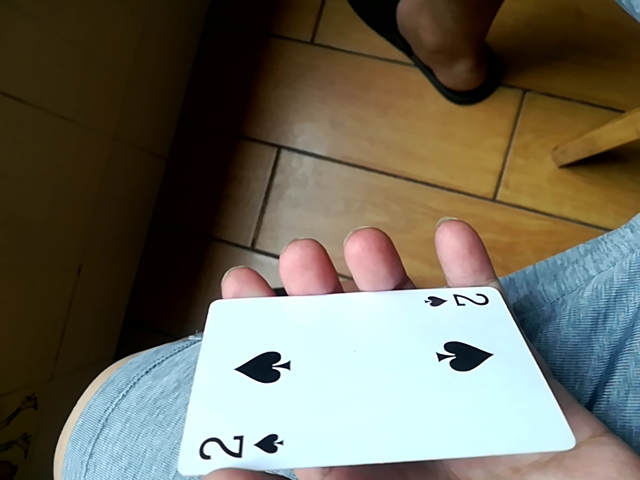ht 2: (178, 283, 576, 478)
